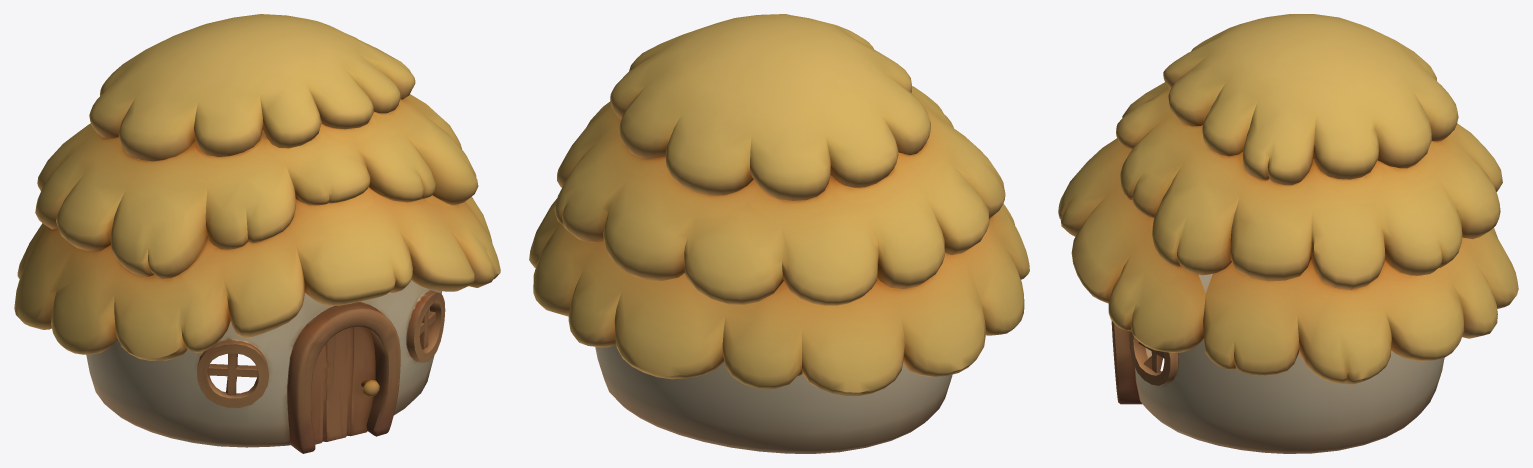
File: straw_house.glb
The picture shows the model from 3 angles, left to right: view 1: azimuth 30°, elevation 25°; view 2: azimuth 150°, elevation 25°; view 3: azimuth 270°, elevation 25°; orthographic projection. The views are drawn at different scales.
Visible parts, largest first — view 1: straw_house; view 2: straw_house; view 3: straw_house.
Part boxes in pixels (x1=…): straw_house: x1=14, y1=14, x2=500, y2=453; straw_house: x1=529, y1=14, x2=1029, y2=453; straw_house: x1=1058, y1=14, x2=1518, y2=453.
Size of the model in its own units: 8.07 by 6.3 by 7.49.
Materials: 1 (1 with a texture image).
